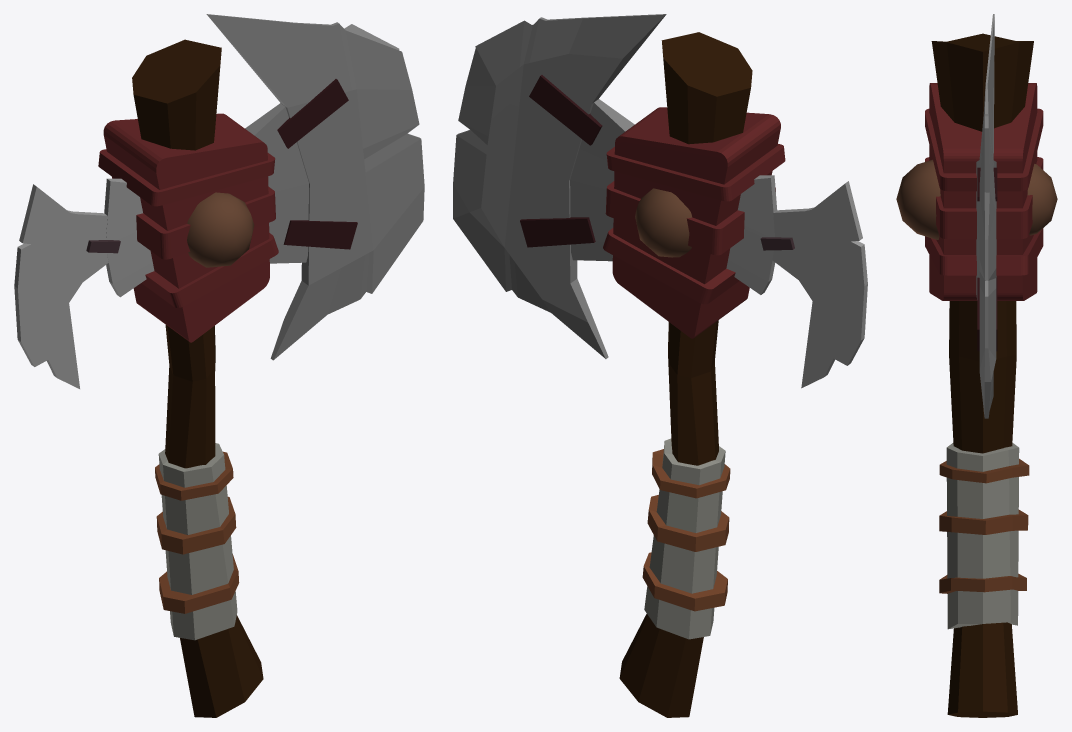
Rendered from Axe_4.fbx.
3 views of the same model, side by side, from view 1: azimuth 30°, elevation 25°; view 2: azimuth 150°, elevation 25°; view 3: azimuth 270°, elevation 25° (orthographic). The views are drawn at different scales.
Visible parts, largest first — view 1: Axe_2; view 2: Axe_2; view 3: Axe_2.
Boxes of the visible parts, <box> form: Axe_2: <box>14,14,424,717</box>; Axe_2: <box>453,14,867,717</box>; Axe_2: <box>896,14,1057,717</box>.
Size of the model in its own units: 3.57 by 5.81 by 1.19.
